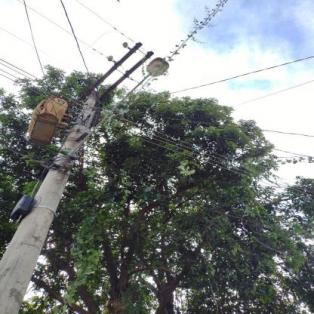Poste: (0, 90, 104, 314)
